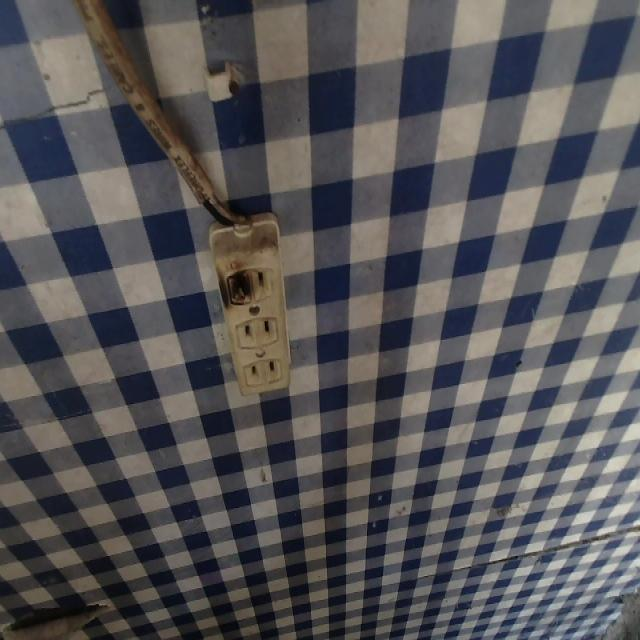-: (218, 257, 259, 316)
